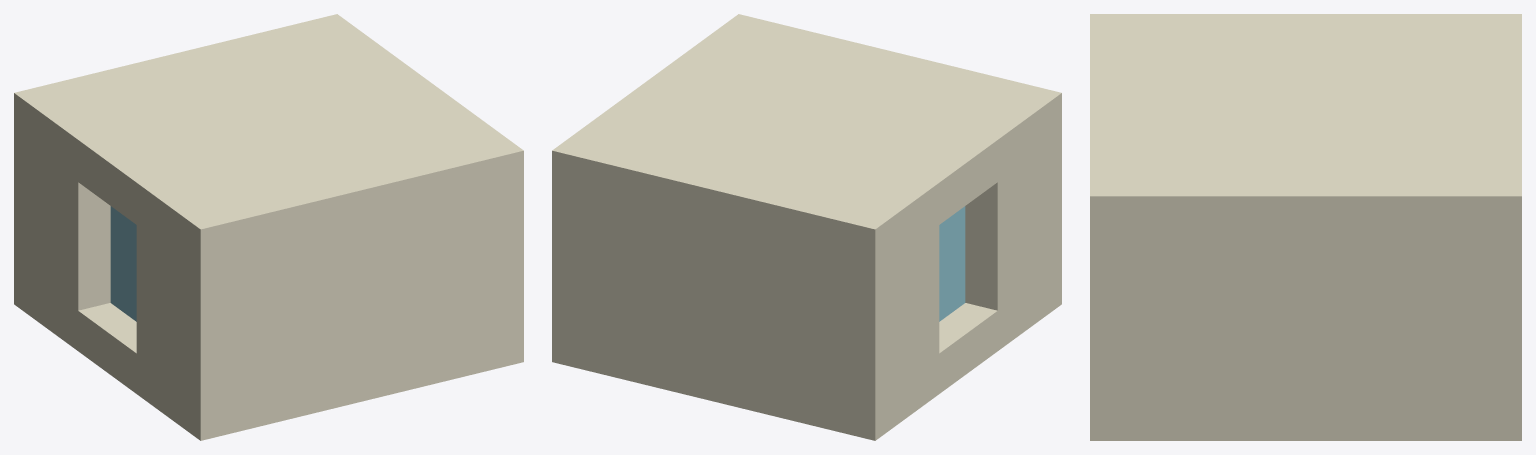
File: modularBuildings_048.fbx
3 views of the same model, side by side, from view 1: azimuth 30°, elevation 25°; view 2: azimuth 150°, elevation 25°; view 3: azimuth 270°, elevation 25° (orthographic). The views are drawn at different scales.
Visible parts, largest first — view 1: Mesh1_Group1 Model; view 2: Mesh1_Group1 Model; view 3: Mesh1_Group1 Model.
Boxes of the visible parts, x1,y1,x2,y2 form: Mesh1_Group1 Model: (14, 14, 523, 440); Mesh1_Group1 Model: (552, 14, 1061, 440); Mesh1_Group1 Model: (1090, 14, 1521, 440).
Bounding box in the file's own units: 1 × 0.625 × 1.
